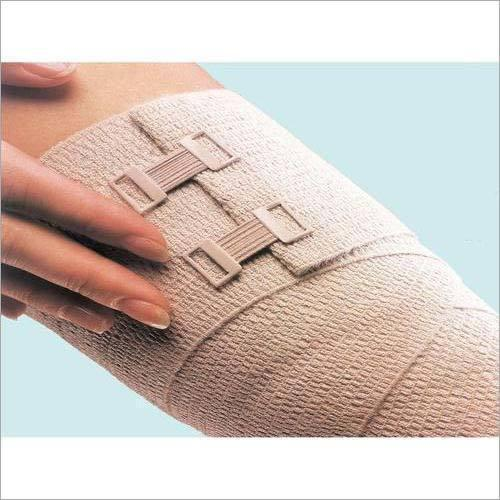bandage: (6, 89, 500, 433)
